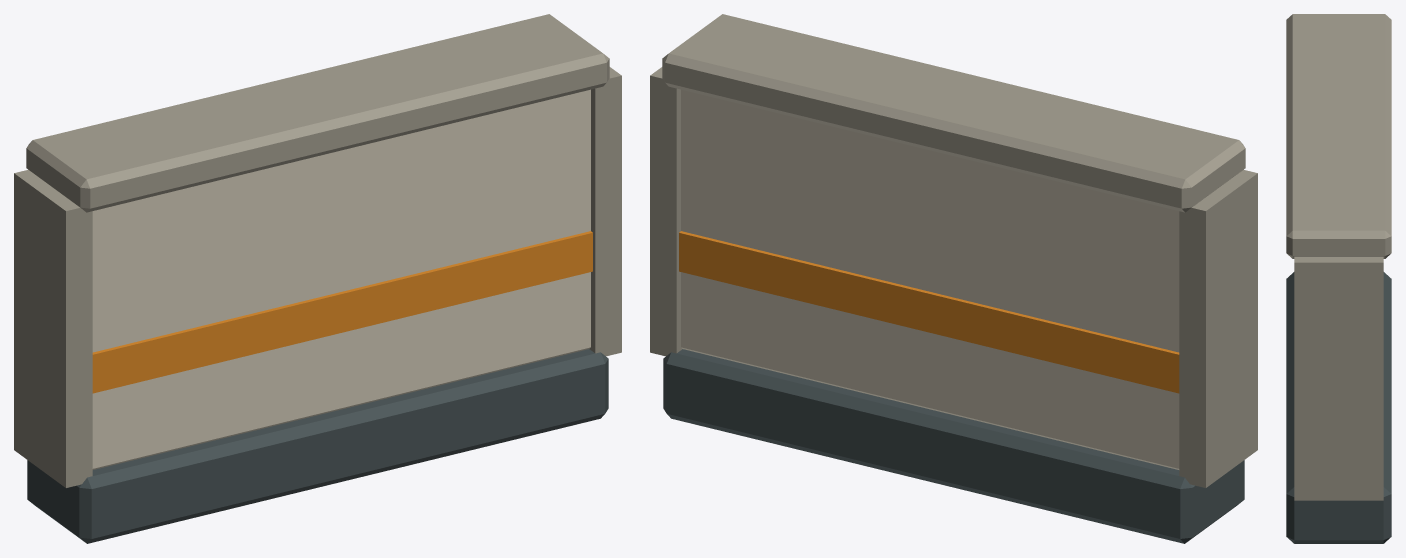
The model's file is fh_wall_1.glb.
3 views of the same model, side by side, from view 1: azimuth 30°, elevation 25°; view 2: azimuth 150°, elevation 25°; view 3: azimuth 270°, elevation 25° (orthographic). The views are drawn at different scales.
Visible parts, largest first — view 1: fh_wall_1; view 2: fh_wall_1; view 3: fh_wall_1.
Part boxes in pixels (x1,y1,x2,y2): fh_wall_1: [14, 14, 621, 543]; fh_wall_1: [650, 14, 1257, 543]; fh_wall_1: [1286, 14, 1391, 543].
Bounding box in the file's own units: 1.05 × 0.66 × 0.2.
